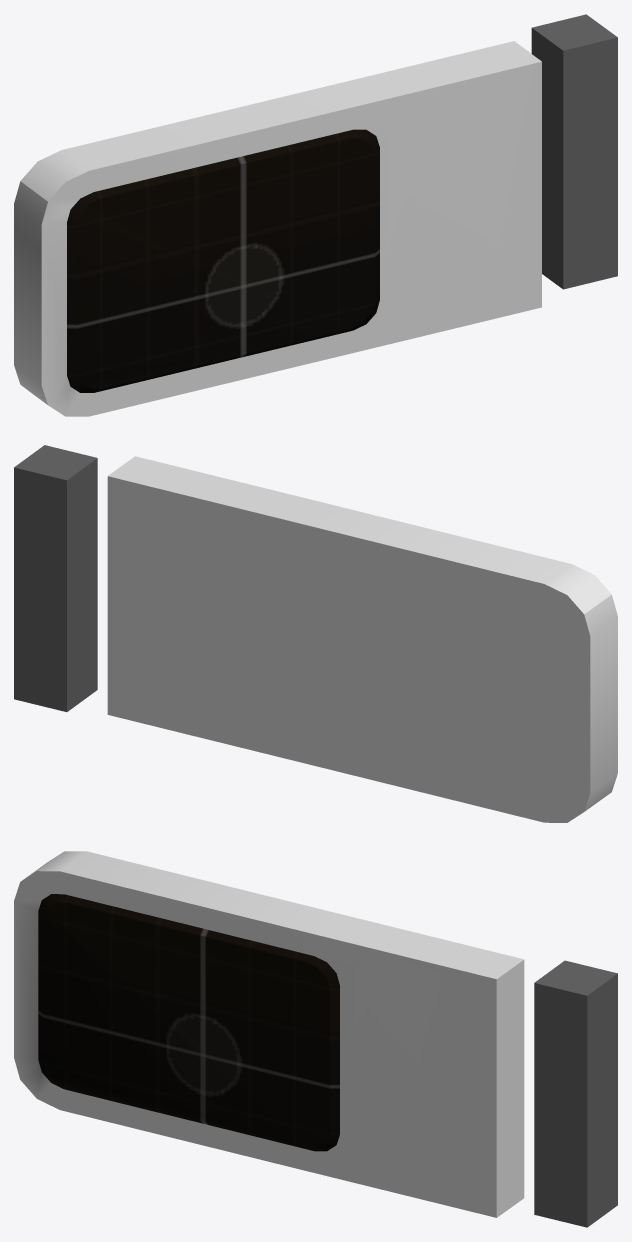
Rendered from SM_ResearchPanels.fbx.
3 renders of one model, top to bottom at view 1: azimuth 30°, elevation 25°; view 2: azimuth 150°, elevation 25°; view 3: azimuth 330°, elevation 25°, orthographic. The views are drawn at different scales.
Parts seen in each view (by area): view 1: ResearchBody, 02_BodyResearch, 01_FrontResearch, ResearchFront; view 2: ResearchFront, 02_BodyResearch, ResearchBody, 01_FrontResearch; view 3: ResearchBody, 02_BodyResearch, 01_FrontResearch, ResearchFront.
Boxes of the visible parts, bbox=[...] form: ResearchBody: bbox=[14, 41, 541, 416]; 02_BodyResearch: bbox=[531, 14, 617, 289]; 01_FrontResearch: bbox=[531, 29, 617, 286]; ResearchFront: bbox=[14, 140, 102, 404]; ResearchFront: bbox=[107, 476, 617, 822]; 02_BodyResearch: bbox=[14, 445, 97, 711]; ResearchBody: bbox=[108, 456, 617, 811]; 01_FrontResearch: bbox=[14, 459, 97, 710]; ResearchBody: bbox=[14, 851, 524, 1217]; 02_BodyResearch: bbox=[534, 960, 617, 1227]; 01_FrontResearch: bbox=[534, 976, 617, 1226]; ResearchFront: bbox=[496, 960, 524, 1217].
Bounding box in the file's own units: 1.62 × 0.6514 × 0.2049.
2 materials, 2 textured.
